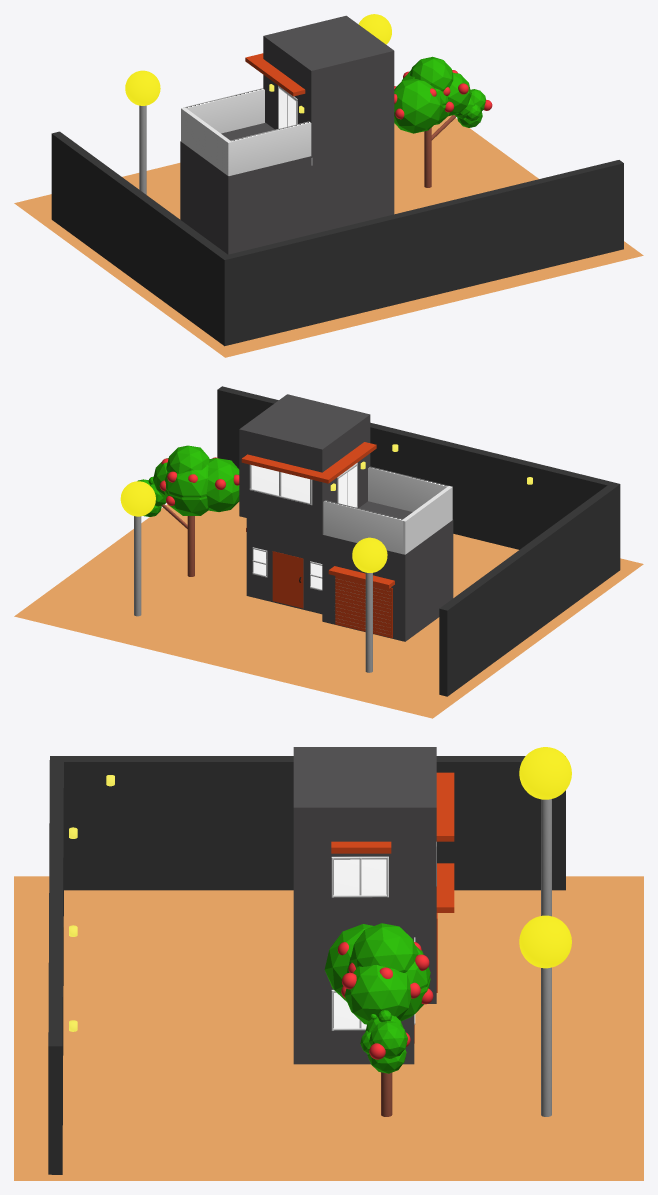
The model's file is House.glb.
3 renders of one model, top to bottom at view 1: azimuth 30°, elevation 25°; view 2: azimuth 150°, elevation 25°; view 3: azimuth 270°, elevation 25°, orthographic. The views are drawn at different scales.
Parts seen in each view (by area): view 1: Cube.165, Plane, Cube.146, Cube.005, Cube.099, Cube.004, Cube.115, Cube.114, Icosphere.019, Cube.113, Icosphere.018, Sphere.001 (+5 smaller); view 2: Plane, Cube.146, Cube.165, Cube.005, Cube.099, Cube.004, Cube.114, Cube.112, Cube.115, Cube.113, Cube.098, Icosphere.019 (+13 smaller); view 3: Plane, Cube.146, Cube.005, Cube.004, Cube.165, Icosphere.014, Icosphere.018, Sphere.001, Sphere, Cube.135, Cylinder.020, Cylinder.021 (+8 smaller).
Part boxes in pixels (bbox=[...]): Cube.165: bbox=[226, 160, 623, 344]; Plane: bbox=[14, 115, 643, 357]; Cube.146: bbox=[51, 131, 230, 346]; Cube.005: bbox=[263, 15, 394, 157]; Cube.099: bbox=[180, 122, 311, 254]; Cube.004: bbox=[311, 138, 394, 234]; Cube.115: bbox=[228, 121, 312, 175]; Cube.114: bbox=[183, 88, 264, 133]; Icosphere.019: bbox=[394, 79, 443, 133]; Cube.113: bbox=[181, 107, 231, 175]; Icosphere.018: bbox=[410, 56, 453, 91]; Sphere.001: bbox=[125, 70, 160, 105]; Plane: bbox=[14, 502, 643, 718]; Cube.146: bbox=[439, 482, 620, 696]; Cube.165: bbox=[217, 386, 614, 549]; Cube.005: bbox=[239, 394, 370, 536]; Cube.099: bbox=[322, 501, 453, 641]; Cube.004: bbox=[246, 518, 322, 614]; Cube.114: bbox=[323, 500, 402, 554]; Cube.112: bbox=[335, 576, 392, 638]; Cube.115: bbox=[368, 466, 451, 511]; Cube.113: bbox=[401, 486, 452, 554]; Cube.098: bbox=[272, 551, 303, 608]; Icosphere.019: bbox=[206, 458, 239, 511]; Plane: bbox=[14, 876, 643, 1180]; Cube.146: bbox=[50, 756, 565, 890]; Cube.005: bbox=[293, 747, 436, 937]; Cube.004: bbox=[293, 934, 414, 1064]; Cube.165: bbox=[48, 760, 63, 1174]; Icosphere.014: bbox=[344, 965, 411, 1024]; Icosphere.018: bbox=[350, 923, 418, 972]; Sphere.001: bbox=[519, 747, 571, 799]; Sphere: bbox=[519, 915, 571, 968]; Cube.135: bbox=[334, 859, 386, 895]; Cylinder.020: bbox=[541, 967, 551, 1116]; Cylinder.021: bbox=[541, 799, 551, 916].
Size of the model in its own units: 18.68 by 7.47 by 16.32.
